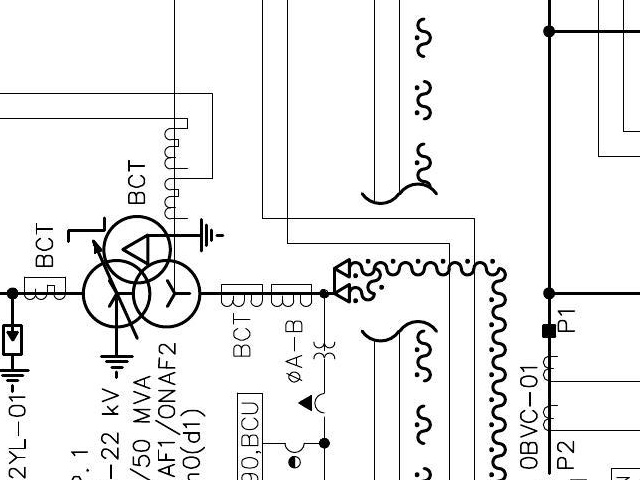11522_tx_ynyn0d1: (342, 206, 357, 223), (196, 203, 211, 219)
115_3ways_ds_w_motor: (338, 142, 352, 151), (191, 36, 205, 45), (338, 36, 352, 45), (191, 139, 205, 148), (191, 112, 205, 120), (338, 112, 352, 120)
115_breaker: (344, 106, 348, 113), (198, 106, 201, 113), (344, 153, 348, 158), (198, 150, 201, 154)
115_ds: (295, 129, 299, 132)
115_la: (187, 53, 196, 58), (334, 53, 343, 58), (187, 191, 196, 196), (334, 194, 343, 199)
115_vt_1p: (291, 87, 316, 105)
115_vt_3p: (204, 37, 221, 62), (350, 37, 367, 62)
22_breaker: (21, 287, 25, 301), (114, 287, 118, 301), (198, 287, 202, 301), (243, 287, 247, 301), (465, 287, 469, 301), (571, 287, 575, 301), (600, 287, 604, 301), (73, 287, 76, 301), (134, 287, 137, 301), (221, 287, 224, 301), (401, 287, 404, 301), (443, 287, 446, 301), (485, 287, 488, 301), (549, 287, 552, 301), (310, 268, 323, 271)
22_cap_bank: (583, 352, 622, 380), (4, 352, 43, 380)
22_ds: (378, 287, 382, 305), (266, 287, 269, 305)
22_ds_la_out: (69, 353, 78, 371), (217, 354, 226, 371), (439, 354, 448, 371), (398, 353, 406, 371), (111, 354, 119, 371), (195, 354, 203, 371), (240, 354, 248, 371), (462, 354, 470, 371), (546, 354, 554, 371), (568, 354, 576, 371)
22_ds_out: (17, 329, 21, 336), (68, 329, 72, 336), (596, 329, 600, 336), (129, 340, 133, 346), (480, 340, 484, 346), (111, 329, 114, 336), (195, 329, 198, 336), (217, 329, 220, 336), (240, 329, 243, 336), (262, 329, 265, 336), (375, 329, 378, 336), (397, 329, 400, 336), (439, 329, 442, 336), (462, 329, 465, 336), (568, 329, 571, 336), (546, 329, 548, 336)
22_gs: (489, 337, 493, 340), (25, 327, 29, 329), (77, 327, 81, 329), (119, 327, 123, 329), (138, 337, 142, 339), (202, 327, 206, 329), (225, 327, 229, 329), (247, 327, 251, 329), (270, 327, 274, 329), (405, 327, 409, 329), (447, 327, 451, 329), (469, 327, 473, 329), (553, 327, 557, 329), (576, 327, 580, 329), (605, 327, 609, 329), (383, 327, 386, 329)
22_ll: (287, 287, 309, 315), (337, 287, 359, 315)
DIM: (157, 319, 164, 323), (237, 84, 244, 88), (324, 309, 331, 313), (416, 323, 423, 327), (508, 319, 514, 323), (384, 84, 390, 88), (88, 323, 94, 327)
DPM: (295, 53, 302, 57), (232, 39, 239, 43), (155, 234, 162, 238), (287, 338, 294, 342), (337, 338, 344, 342), (379, 40, 386, 43), (302, 238, 308, 241)
MU: (385, 215, 401, 223), (239, 212, 255, 219)
NGR_future: (33, 338, 40, 346), (612, 338, 619, 346)
tele_protection: (22, 331, 28, 335), (73, 331, 79, 335), (115, 331, 121, 335), (135, 342, 141, 346), (199, 331, 205, 335), (221, 331, 227, 335), (244, 331, 250, 335), (266, 331, 272, 335), (379, 331, 385, 335), (402, 331, 408, 335), (444, 331, 450, 335), (466, 331, 472, 335), (486, 342, 492, 346), (550, 331, 556, 335), (572, 331, 578, 335), (601, 331, 607, 335), (199, 237, 205, 240), (346, 241, 351, 243)
terminator_double: (22, 348, 25, 351), (73, 348, 76, 351), (244, 348, 247, 351), (221, 348, 224, 351), (199, 348, 202, 351), (115, 348, 118, 351), (379, 348, 382, 351), (402, 348, 405, 351), (550, 348, 553, 351), (572, 348, 575, 351), (601, 348, 604, 351), (267, 348, 269, 351), (444, 348, 446, 351), (466, 349, 469, 351)
terminator_w_future: (169, 223, 174, 228), (316, 227, 320, 231)
v_m: (287, 46, 302, 51)
